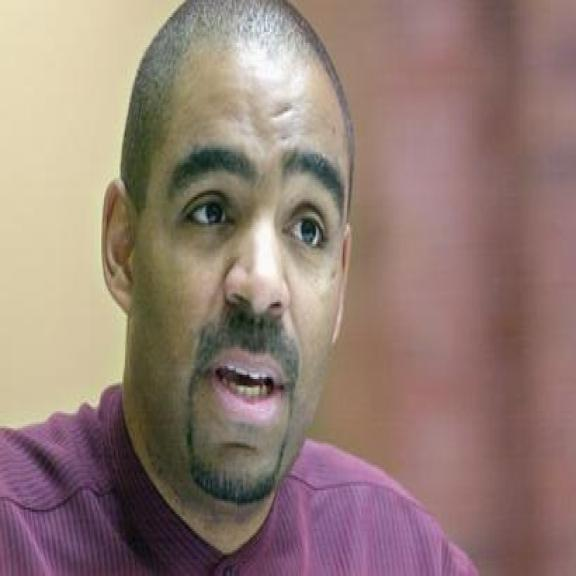face: (90, 52, 351, 510)
